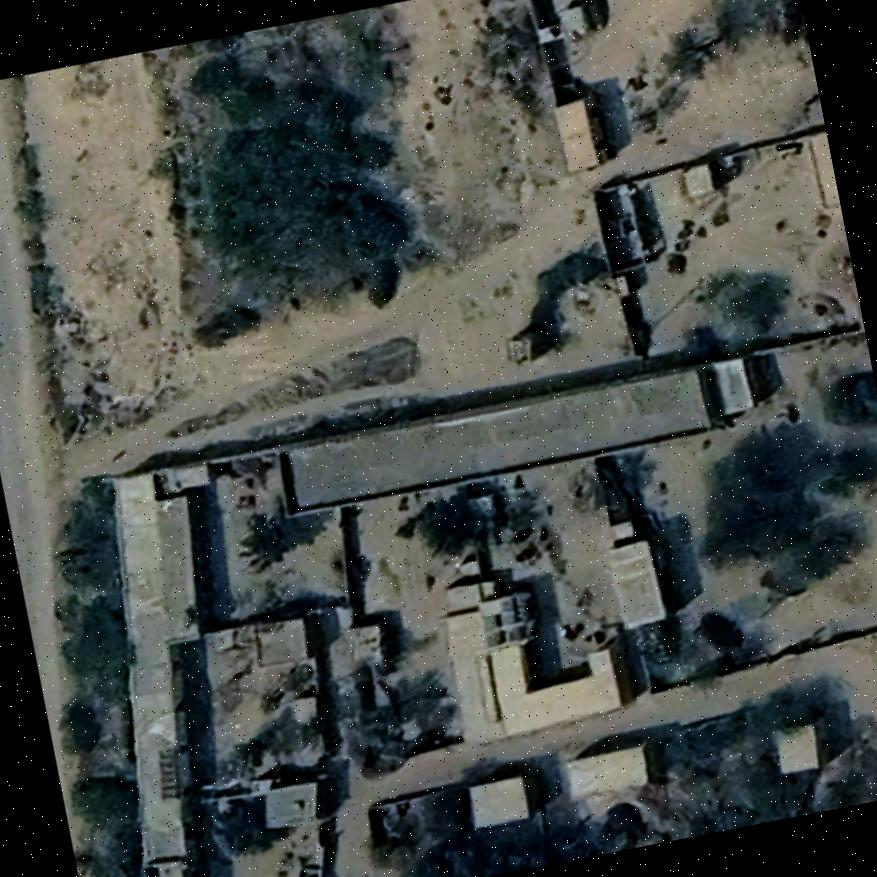Solarpanel: (496, 588, 539, 645), (476, 608, 506, 650)
